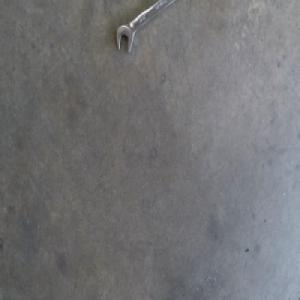Wrench: (116, 0, 172, 52)
